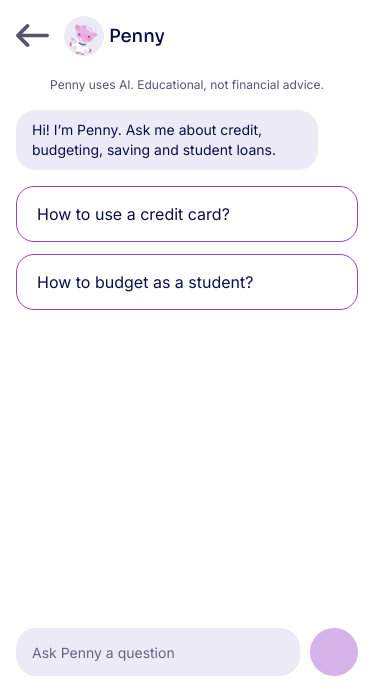
it: PennyChat › masks what the student typed, and Penny's reply, in session replay
Type "I'm jordan@bu.edu, does preapproval hurt my score?" into the field labelled "Ask Penny".
click(158, 652); type("I'm jordan@bu.edu, does preapproval hurt my score?")  # box x1=16 y1=628 x2=300 y2=676
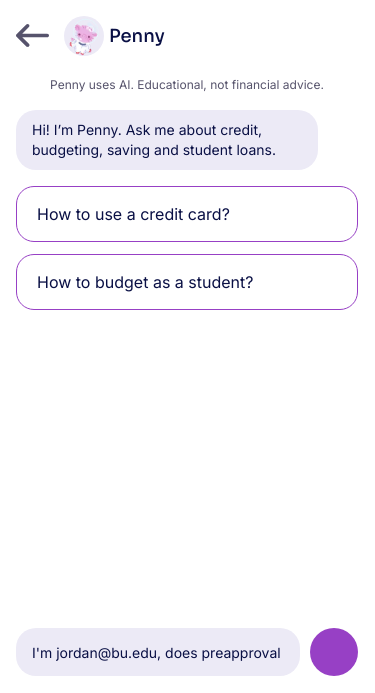
Click the button named "Send".
click(334, 652)  # box x1=310 y1=628 x2=358 y2=676
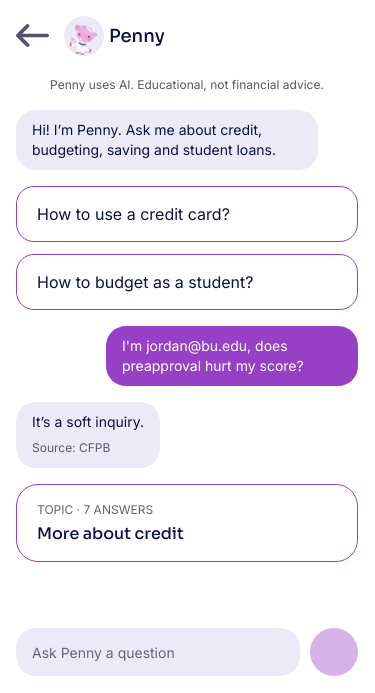
Expected: the text "I'm jordan@bu.edu, does preapproval hurt my score?" is shown, x1=106 y1=326 x2=358 y2=386
Expected: the text "It’s a soft inquiry." is shown, x1=32 y1=412 x2=144 y2=432
